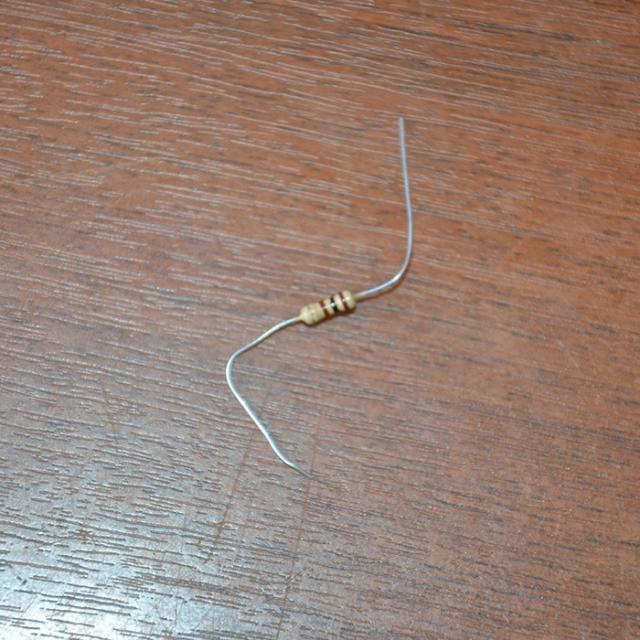Capacitor Electrolitico: (297, 289, 360, 331)
